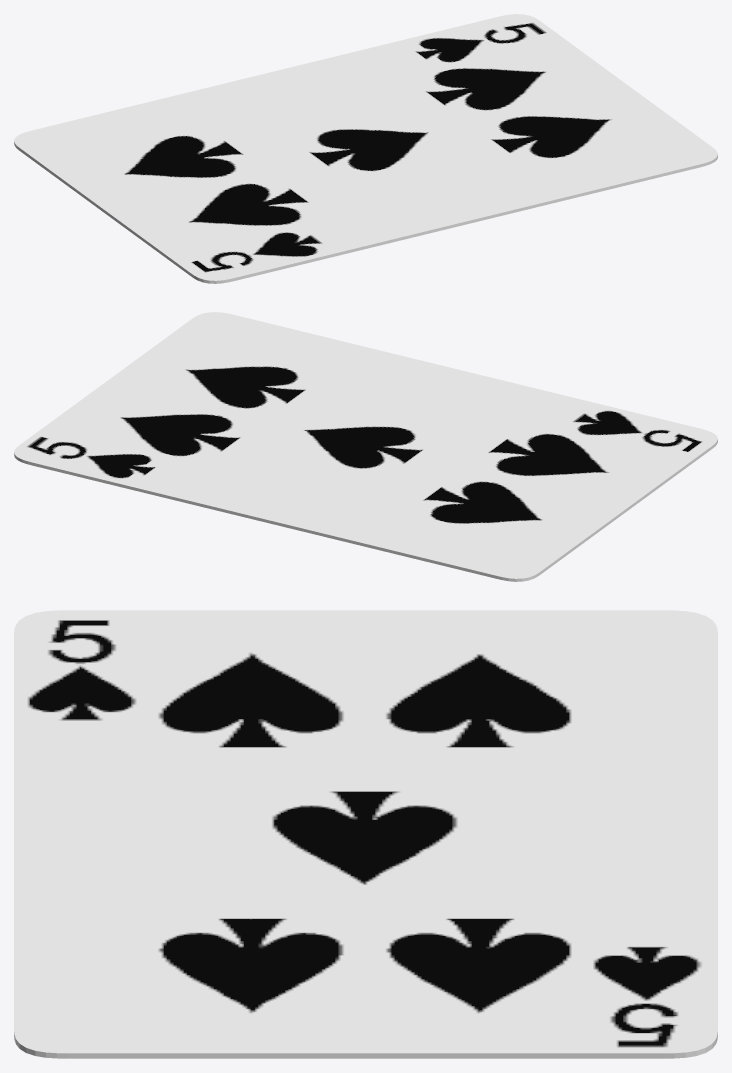
File: 5_of_spades.gltf
The picture shows the model from 3 angles, top to bottom: view 1: azimuth 30°, elevation 25°; view 2: azimuth 150°, elevation 25°; view 3: azimuth 270°, elevation 25°; orthographic projection. The views are drawn at different scales.
Visible parts, largest first — view 1: Plane; view 2: Plane; view 3: Plane.
Part boxes in pixels (x1=…): Plane: x1=14, y1=14, x2=717, y2=283; Plane: x1=14, y1=312, x2=717, y2=581; Plane: x1=14, y1=610, x2=717, y2=1058.
Size of the model in its own units: 0.09 by 0.0005 by 0.0605.
Materials: 1 (1 with a texture image).
